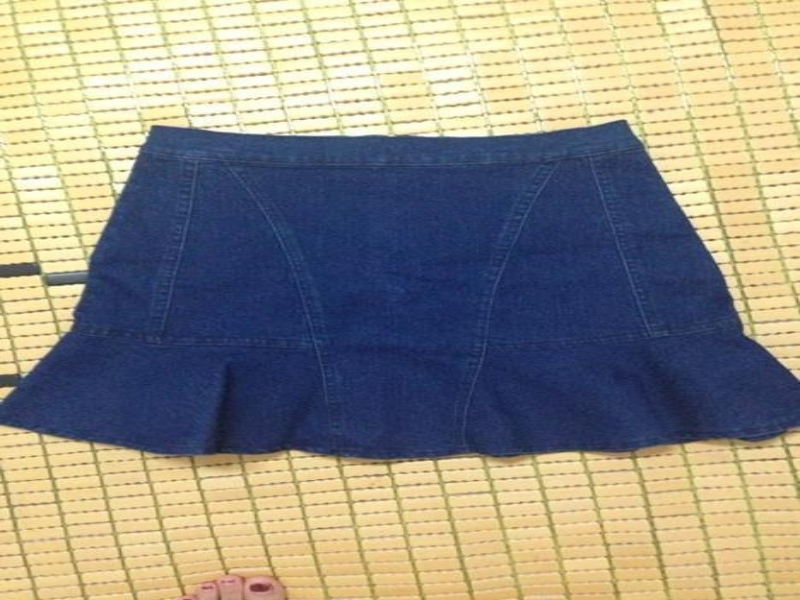skirt: (2, 119, 798, 464)
